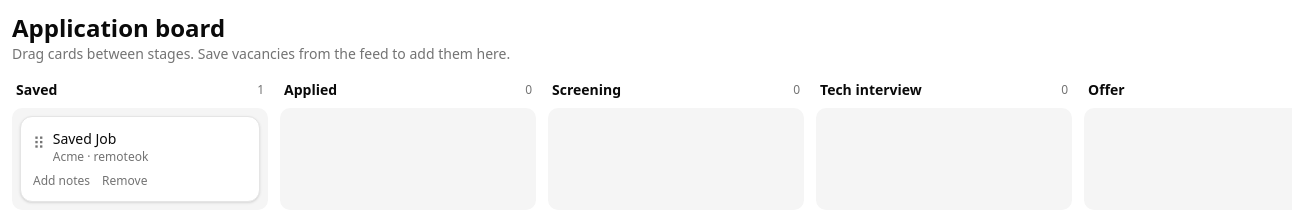
Scenario: KanbanBoard › removes a card optimistically on delete
Click the button "Remove": [125, 181] box x1=102 y1=173 x2=147 y2=189
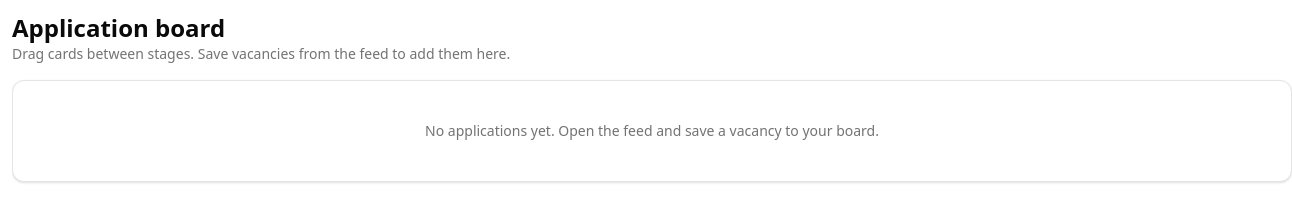
Check: the link "Saved Job" is gone
